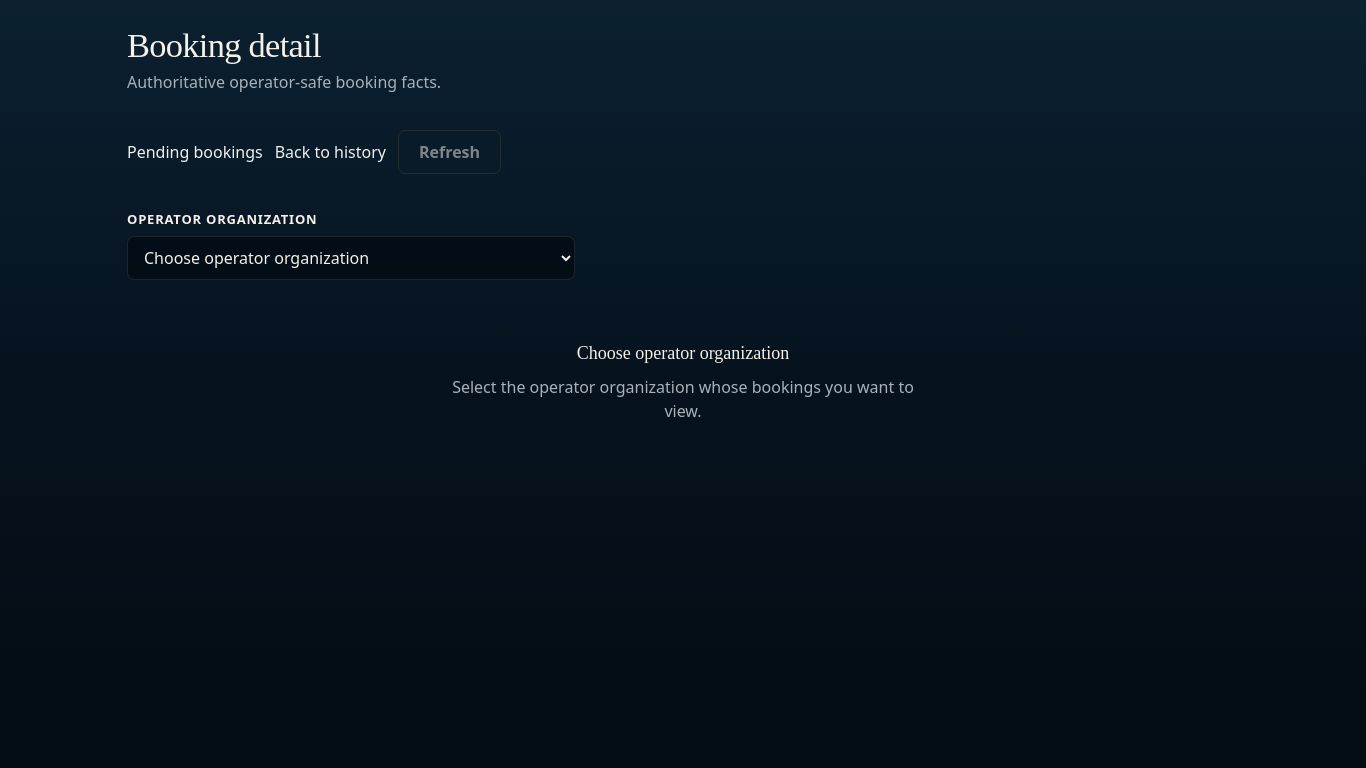
Test: OperatorBookingHistory › discards late detail after an organization switch
The width and height of the screenshot is (1366, 768).
Select "Operator organization 1 — OPERATOR_ADMIN" in the dropdown labelled "Operator organization" at x=351, y=258, box [127,236,575,280]
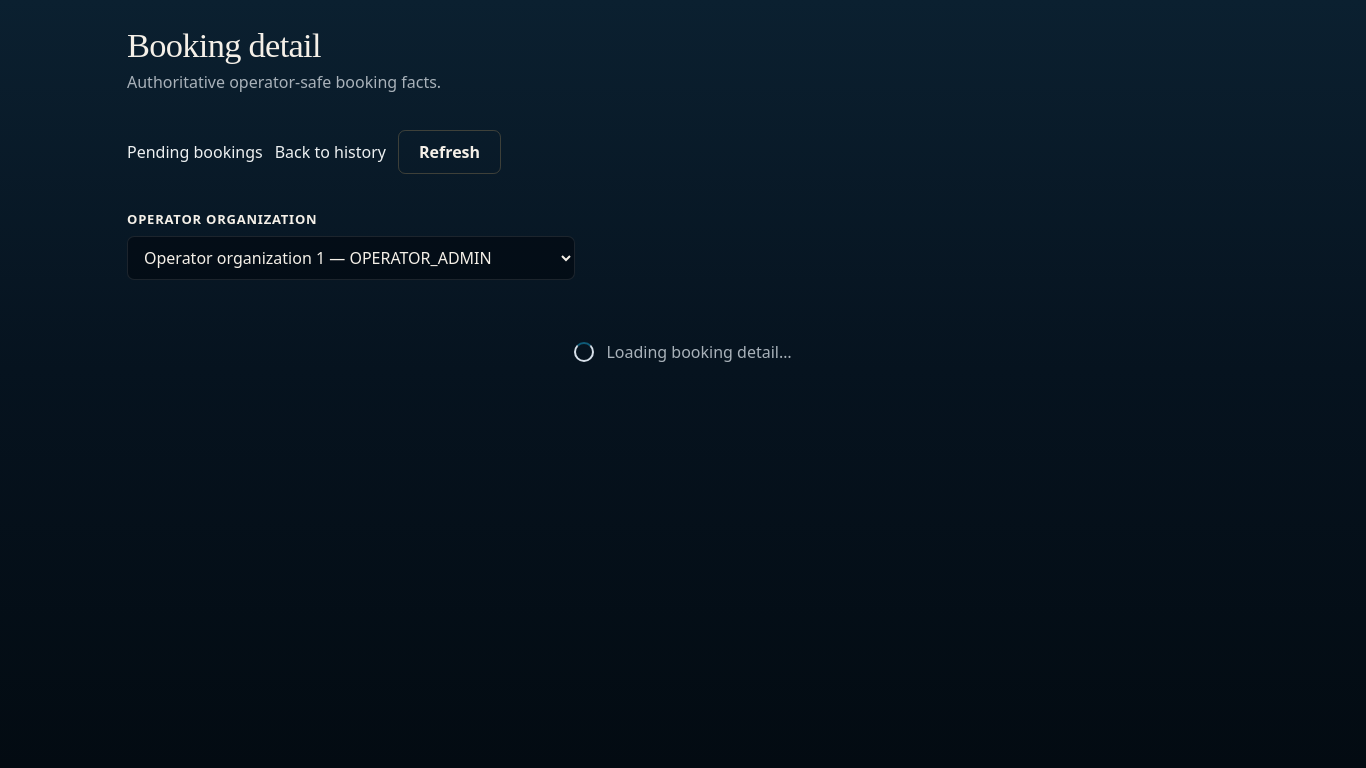
Select "Operator organization 2 — OPERATOR_FINANCE" in the dropdown labelled "Operator organization" at x=351, y=258, box [127,236,575,280]
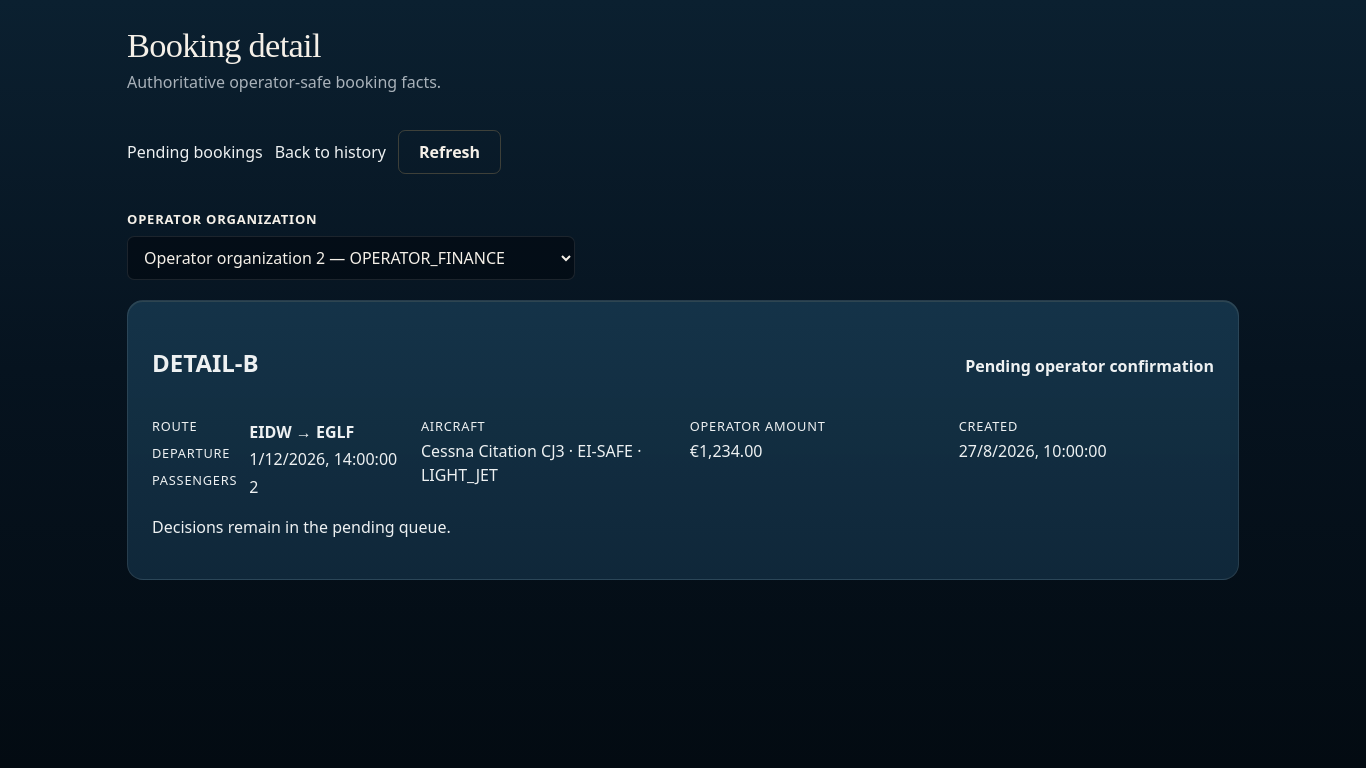
Result: the heading "DETAIL-B" is shown at [152,345,259,381]
